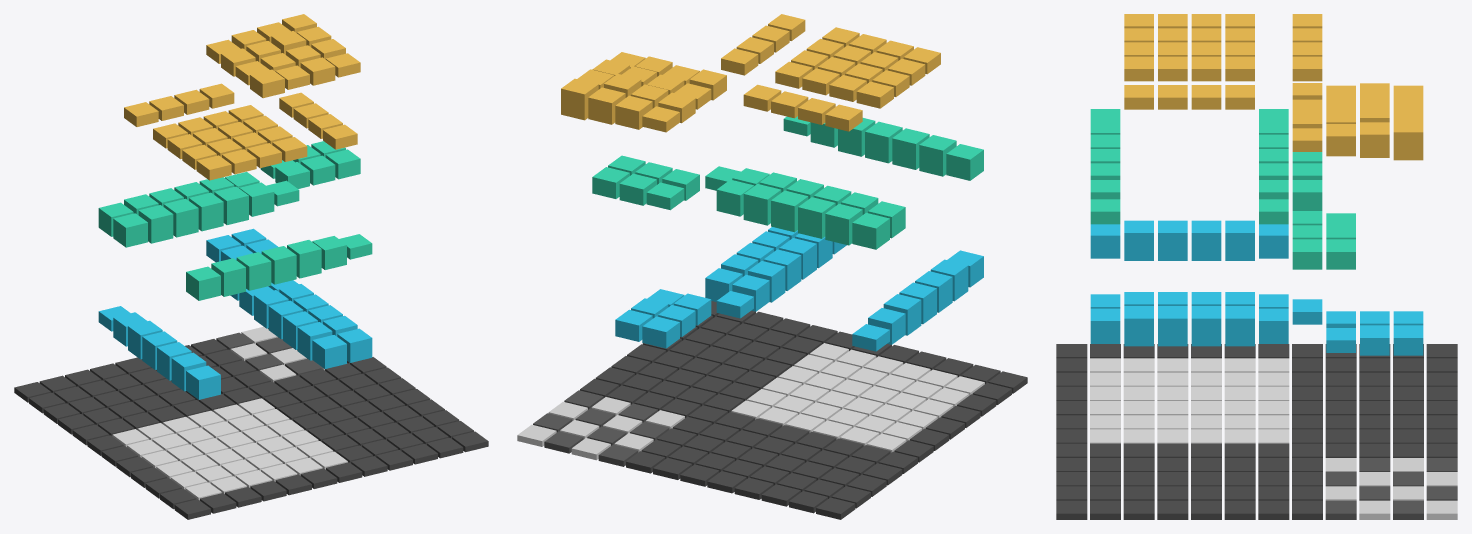
File: vision.glb
The picture shows the model from 3 angles, left to right: view 1: azimuth 30°, elevation 25°; view 2: azimuth 150°, elevation 25°; view 3: azimuth 270°, elevation 25°; orthographic projection. The views are drawn at different scales.
Parts seen in each view (by area): view 1: Activation.033, Activation.026, Activation, Activation.001, Activation.034, Activation.028, Activation.035, Activation.030, Activation.037, Activation.029, Activation.027, Activation.036 (+33 smaller); view 2: Activation.040, Activation.026, Activation.041, Activation.091, Activation.027, Activation.044, Activation.029, Activation.042, Activation.028, Activation.043, Activation.090, Activation.024 (+38 smaller); view 3: Activation.009, Activation.011, Activation.091, Activation.003, Activation.005, Activation.006, Activation.008, Activation.012, Activation.014, Activation.002, Activation, Activation.017 (+169 smaller).
Part boxes in pixels (x1,y1,x2,y2): Activation.033: (113, 213, 147, 247); Activation.026: (186, 266, 220, 300); Activation: (186, 365, 220, 399); Activation.001: (312, 335, 346, 368); Activation.034: (138, 205, 173, 243); Activation.028: (236, 252, 271, 290); Activation.035: (163, 198, 198, 237); Activation.030: (287, 240, 321, 278); Activation.037: (214, 186, 248, 224); Activation.029: (261, 246, 296, 284); Activation.027: (211, 258, 245, 296); Activation.036: (189, 192, 223, 231); Activation.040: (852, 212, 889, 249); Activation.026: (946, 144, 983, 180); Activation.041: (825, 204, 862, 245); Activation.091: (561, 78, 598, 120); Activation.027: (919, 135, 956, 176); Activation.044: (743, 184, 781, 225); Activation.029: (865, 121, 902, 163); Activation.042: (798, 197, 835, 238); Activation.028: (892, 128, 929, 169); Activation.043: (771, 190, 808, 232); Activation.090: (588, 87, 625, 124); Activation.024: (642, 316, 679, 348); Activation.009: (1191, 220, 1221, 260); Activation.011: (1191, 306, 1221, 346); Activation.091: (1393, 120, 1423, 160); Activation.003: (1124, 220, 1153, 260); Activation.005: (1124, 306, 1153, 346); Activation.006: (1158, 220, 1187, 260); Activation.008: (1158, 306, 1187, 346); Activation.012: (1225, 220, 1254, 260); Activation.014: (1225, 306, 1254, 346); Activation.002: (1090, 308, 1120, 343); Activation: (1090, 224, 1120, 258); Activation.017: (1259, 308, 1288, 343).
Size of the model in its own units: 2.86 by 2.93 by 2.86.
